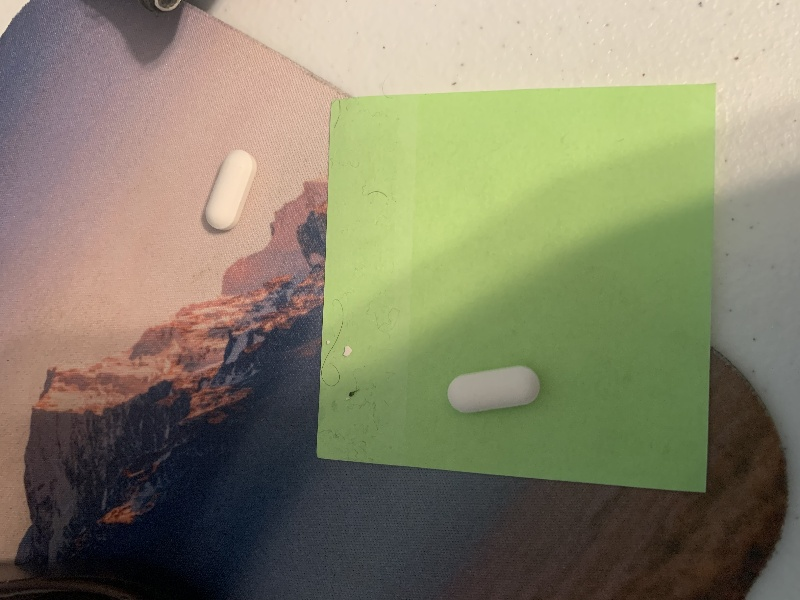Tylenol: (199, 147, 261, 232), (447, 362, 545, 415)
